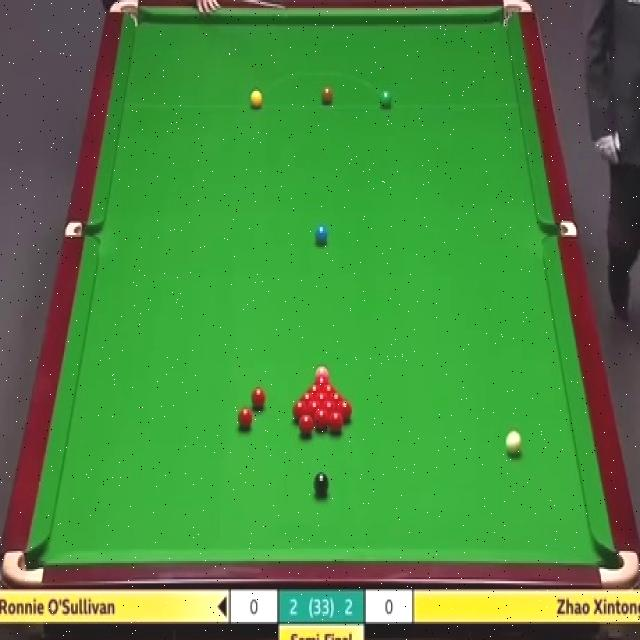black-ball: (313, 470, 329, 498)
blue-ball: (316, 225, 329, 248)
brown-ball: (321, 86, 333, 105)
green-ball: (380, 90, 392, 109)
pink-ball: (314, 361, 330, 379)
red-ball: (237, 407, 256, 433), (251, 386, 266, 414), (298, 415, 314, 439), (314, 408, 329, 433), (336, 400, 353, 420), (292, 400, 308, 421), (329, 413, 345, 434), (307, 400, 322, 416), (323, 402, 336, 419), (328, 392, 346, 403), (321, 385, 338, 395), (314, 393, 330, 403), (300, 393, 314, 404), (313, 375, 330, 384), (305, 385, 321, 394)
white-ball: (506, 431, 522, 455)
yellow-ball: (249, 88, 264, 110)
